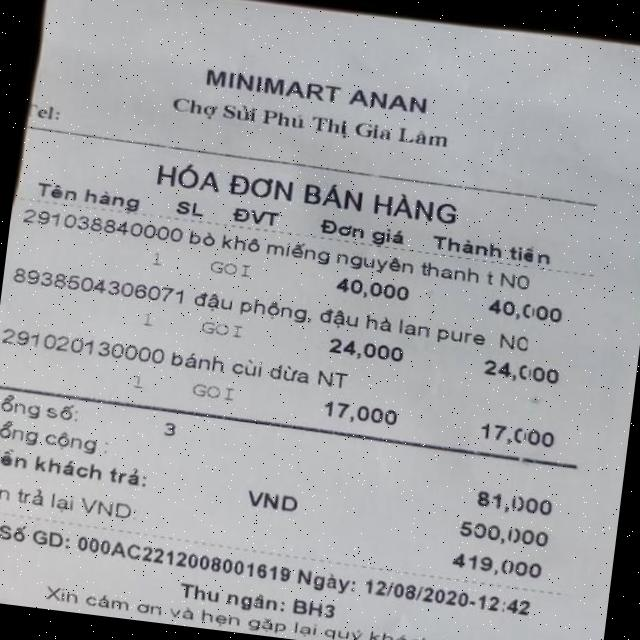Date: (362, 575, 474, 610)
Store_Name: (200, 62, 432, 120)
amount_number: (472, 483, 558, 522)
label_total: (0, 414, 109, 461)
